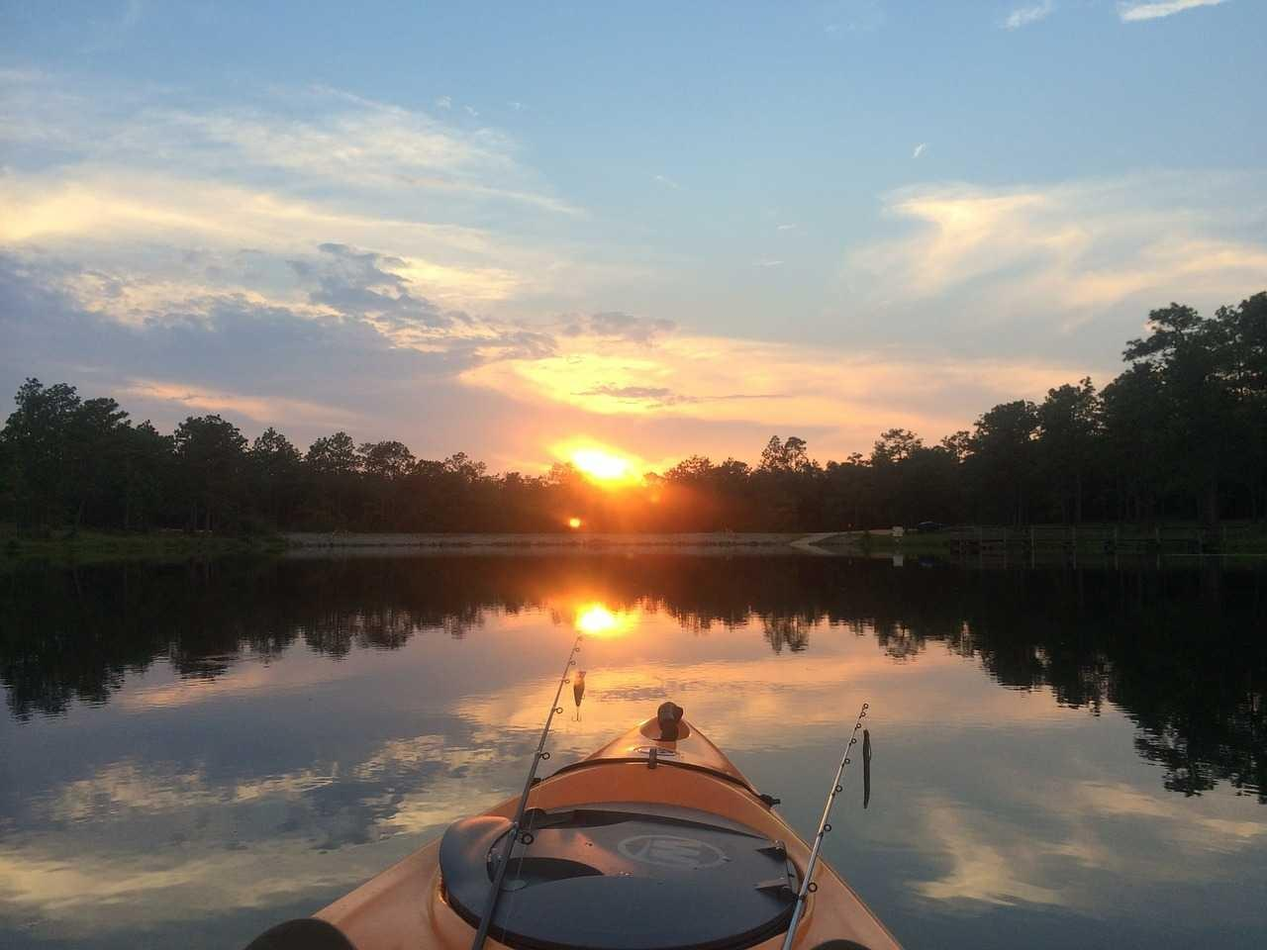kayak: (248, 701, 902, 950)
